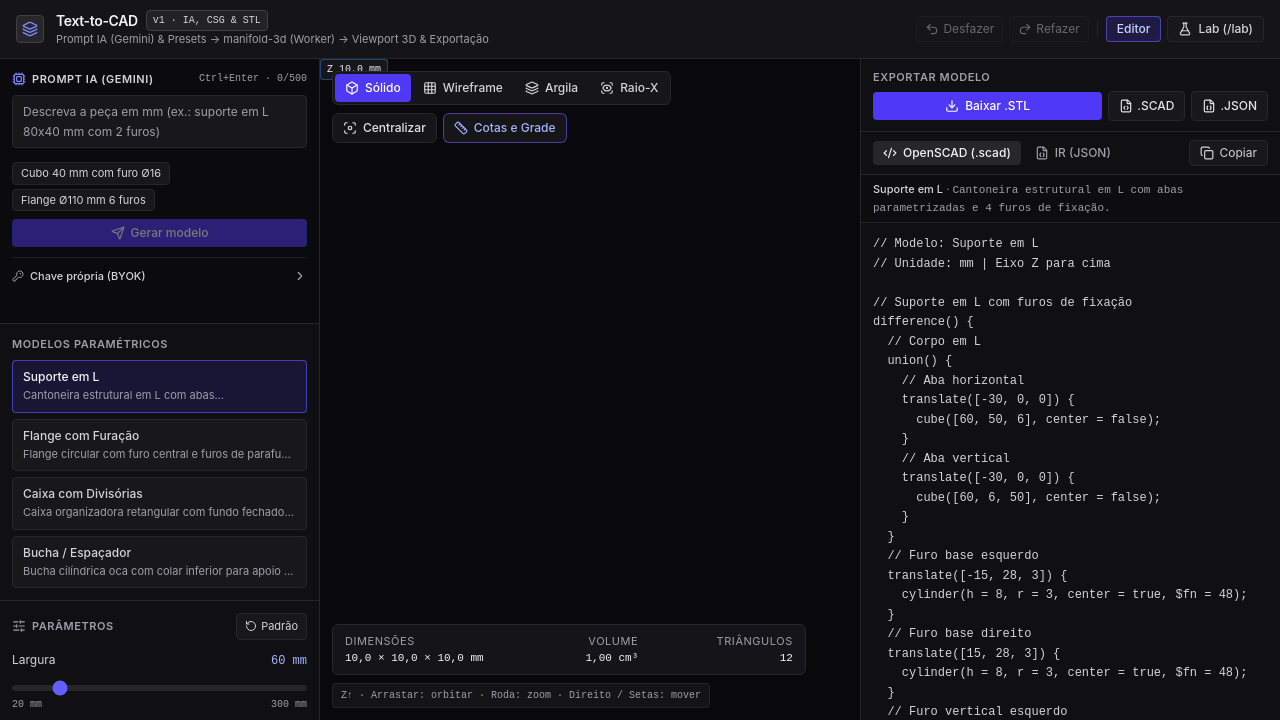
Test: Marco 5 (F8): Shell v1, Undo/Redo, Histórico, Abas Mobile e Cobertura › integra histórico no App ao trocar preset e limpar via history-clear
The image size is (1280, 720).
Click the button with test id "preset-flange".
click(160, 445)  # box [12, 418, 307, 471]
(page scrolled)
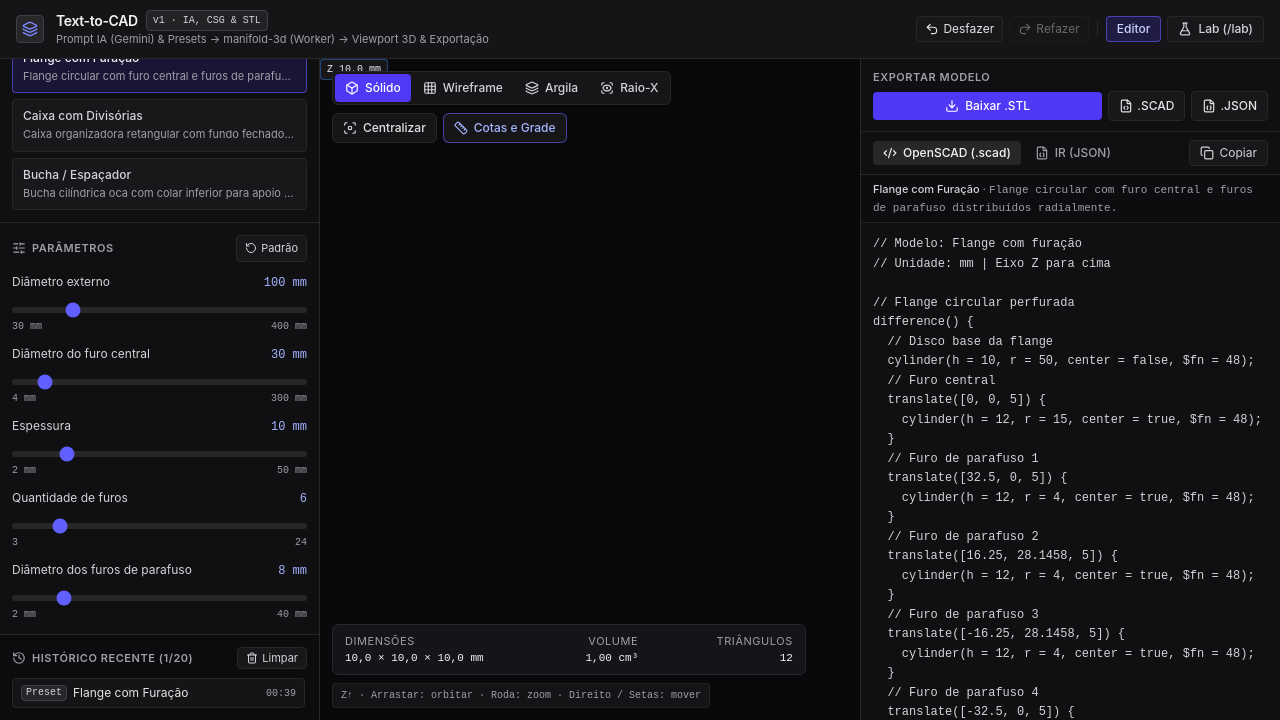
Click the button with test id "history-clear".
click(272, 658)  # box [237, 646, 307, 669]
(page scrolled)
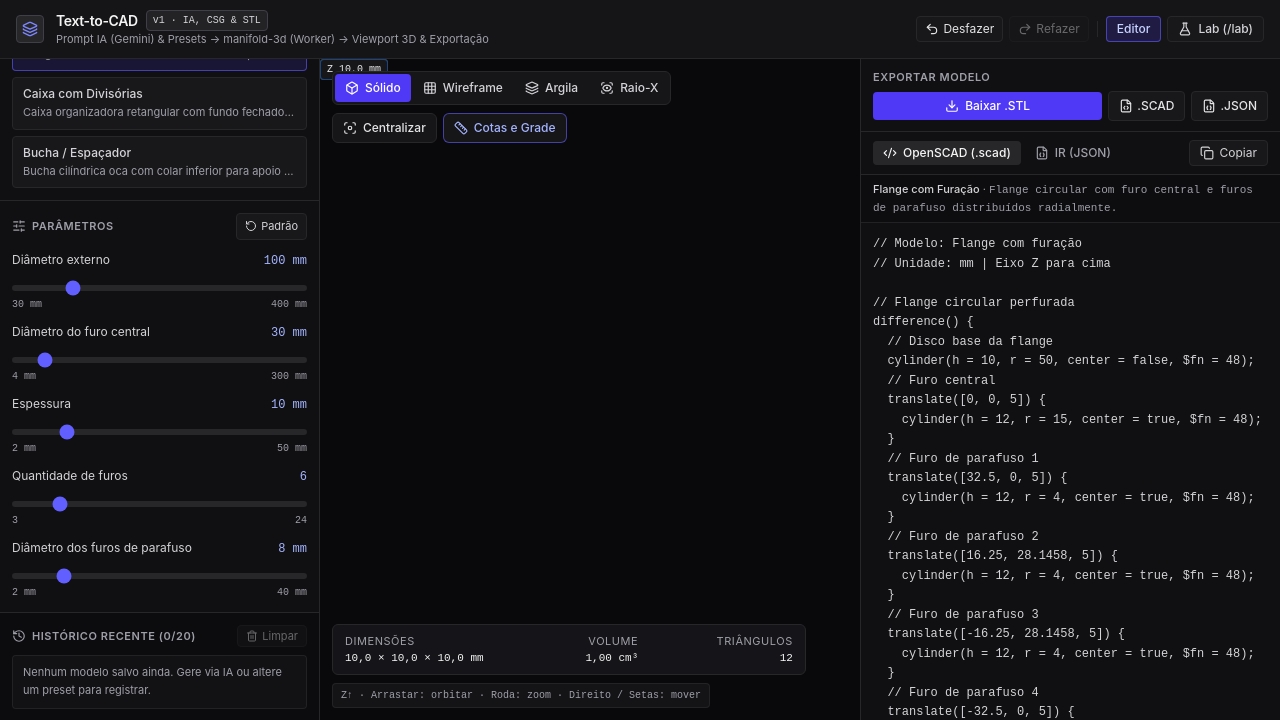
expect the text with test id "history-empty" is shown: met, box [12, 655, 307, 709]
